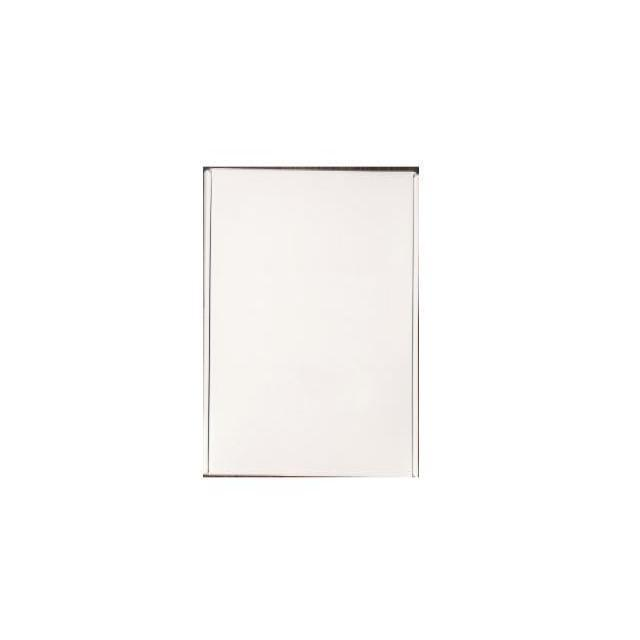Cardboard: (202, 168, 421, 484)
